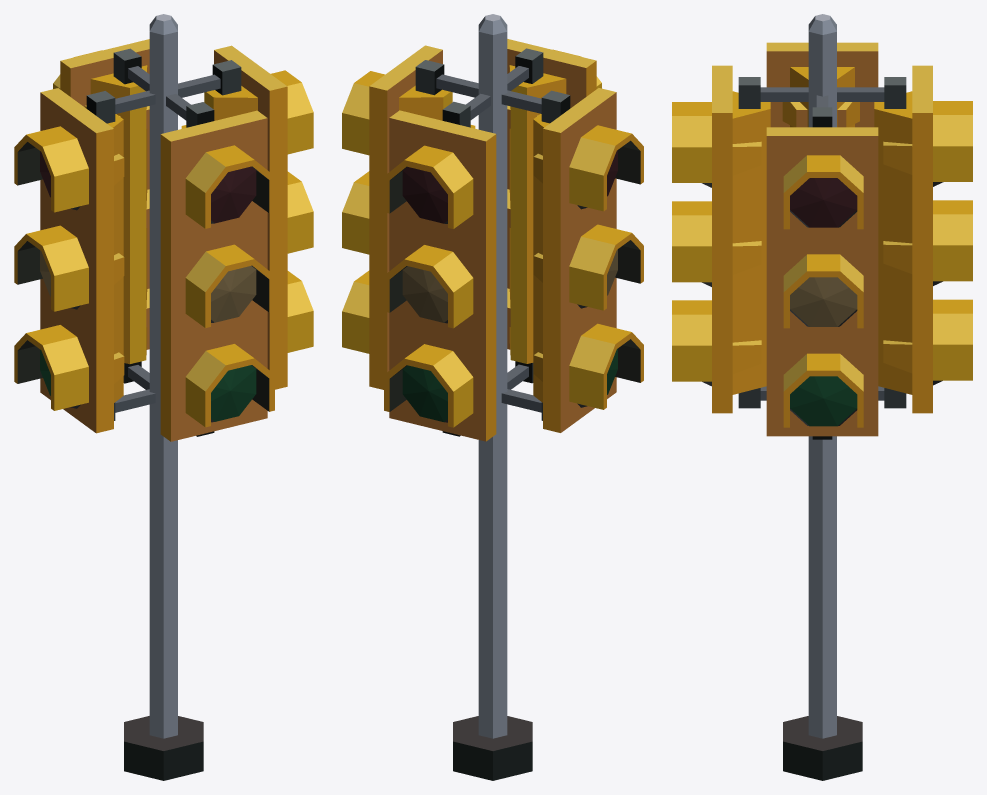
File: TB_CITY_Prop_TrafficLight_4Set_Yellow.FBX
3 renders of one model, left to right at view 1: azimuth 30°, elevation 25°; view 2: azimuth 150°, elevation 25°; view 3: azimuth 270°, elevation 25°, orthographic.
Visible parts, largest first — view 1: TB_CITY_Prop_TrafficLight_4Set_Yellow; view 2: TB_CITY_Prop_TrafficLight_4Set_Yellow; view 3: TB_CITY_Prop_TrafficLight_4Set_Yellow.
Part boxes in pixels (bbox=[...]): TB_CITY_Prop_TrafficLight_4Set_Yellow: bbox=[14, 14, 313, 780]; TB_CITY_Prop_TrafficLight_4Set_Yellow: bbox=[342, 14, 643, 780]; TB_CITY_Prop_TrafficLight_4Set_Yellow: bbox=[672, 14, 972, 780].
Size of the model in its own units: 2.76 by 7.53 by 2.76.
